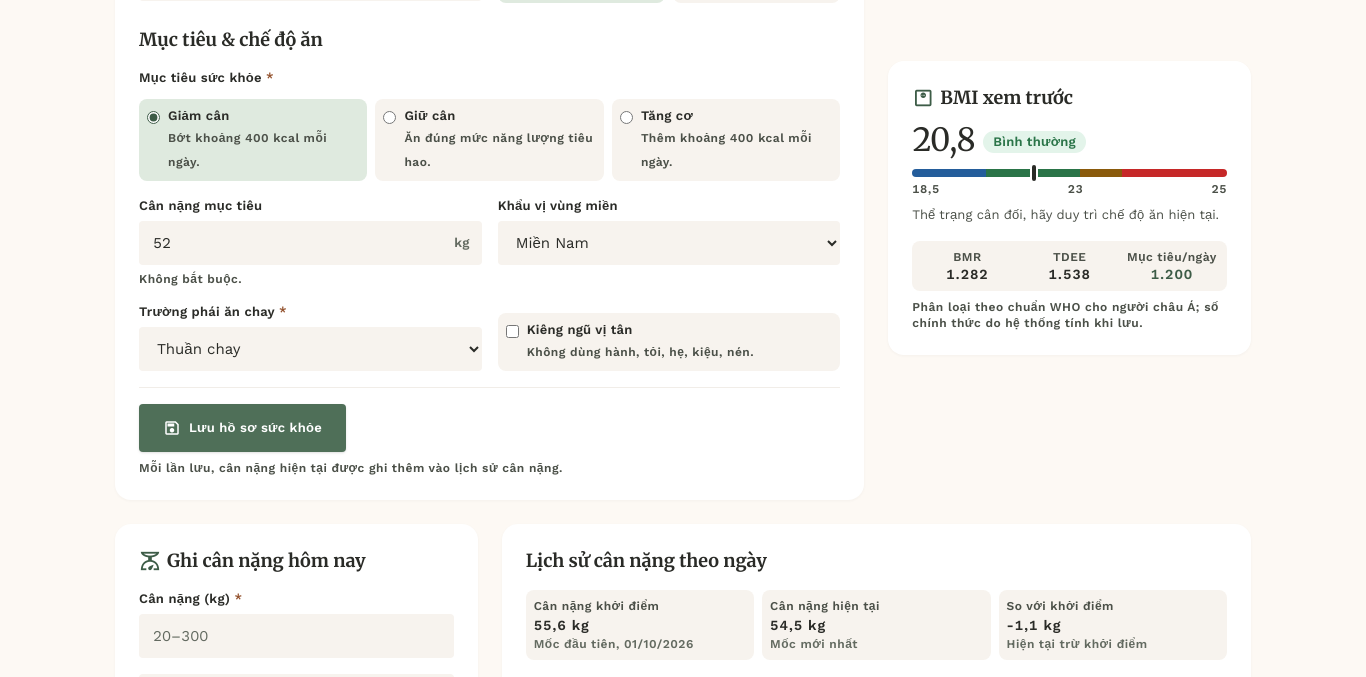
it: HealthProfile (SCR-08) › Thành viên › chọn trường phái kiêng ngũ vị tân thì tự bật và khóa ô kiêng ngũ vị tân
(page scrolled)
Expected: the checkbox labelled "Kiêng ngũ vị tân Không dùng hành, tỏi, hẹ, kiệu, nén." is not checked, x1=506 y1=325 x2=519 y2=338
Select "Chay kiêng ngũ vị tân" in the dropdown labelled "Trường phái ăn chay *" at (310, 349), box x1=139 y1=327 x2=482 y2=371
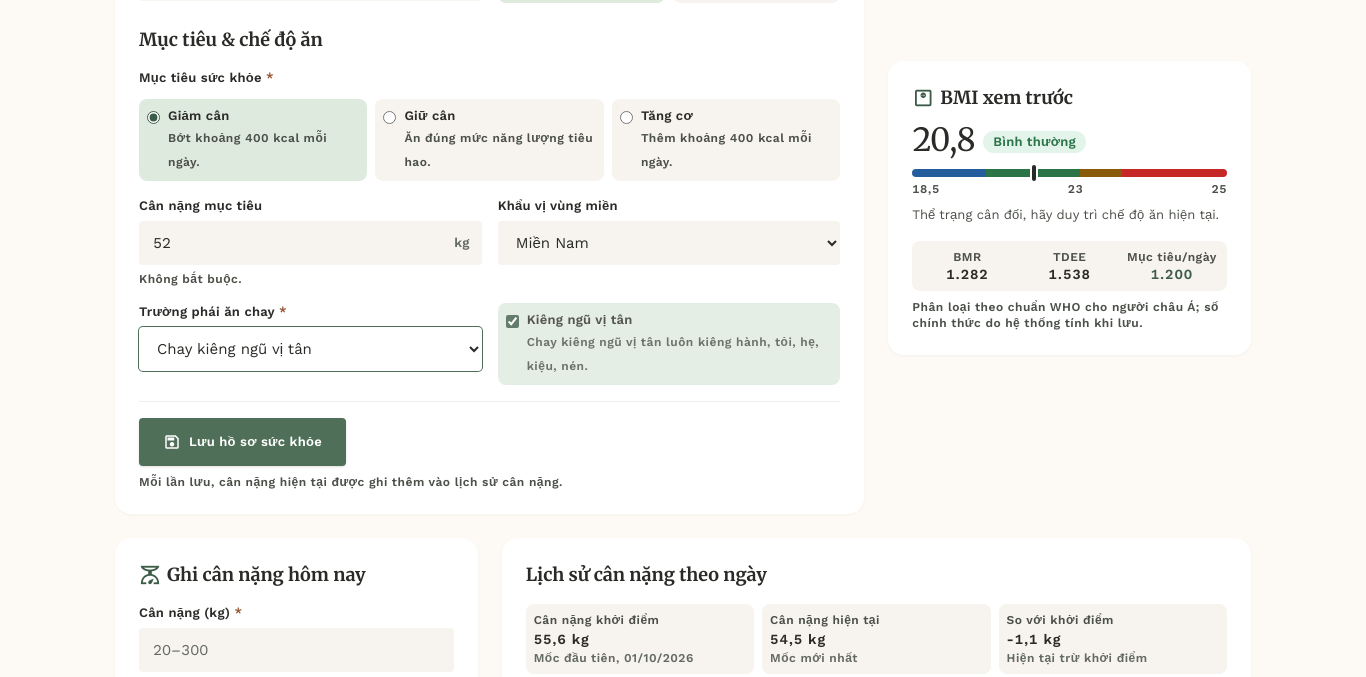
Result: the checkbox labelled "Kiêng ngũ vị tân" is checked
Click the checkbox labelled "Kiêng ngũ vị tân" at (512, 322), box x1=506 y1=315 x2=519 y2=328
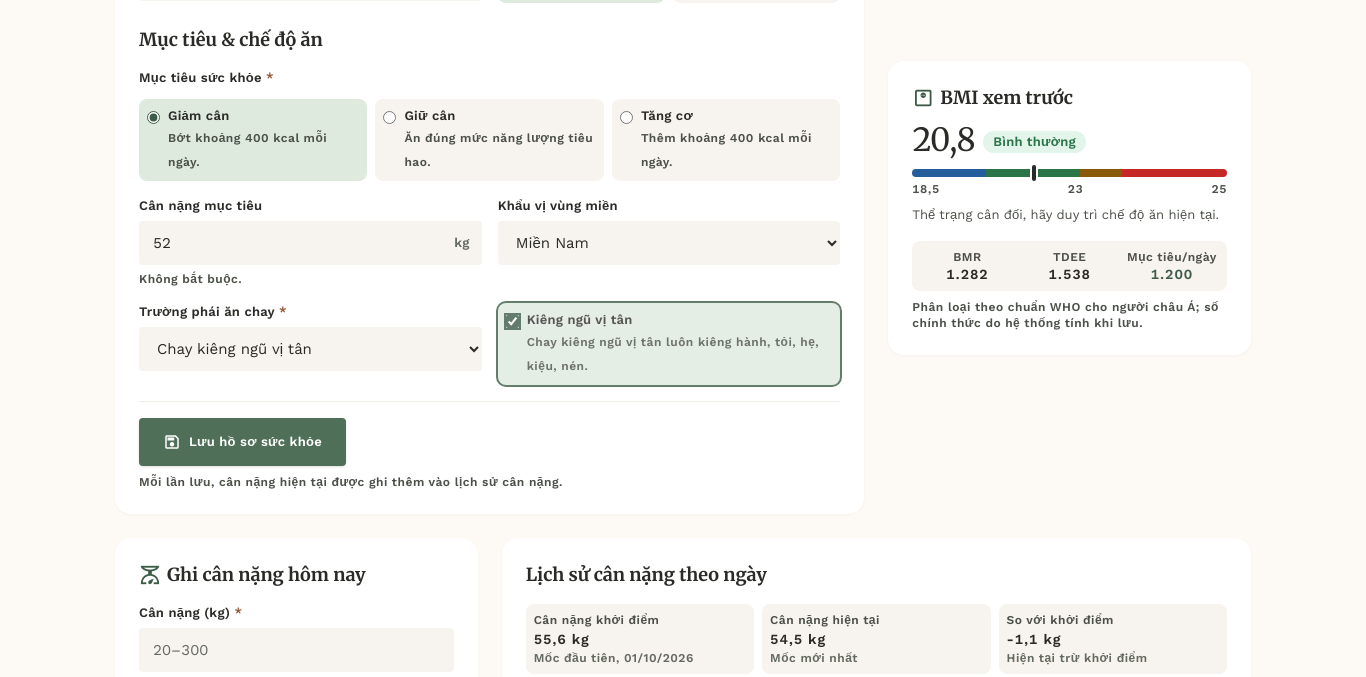
Result: the checkbox labelled "Kiêng ngũ vị tân" is checked at x1=506 y1=315 x2=519 y2=328
